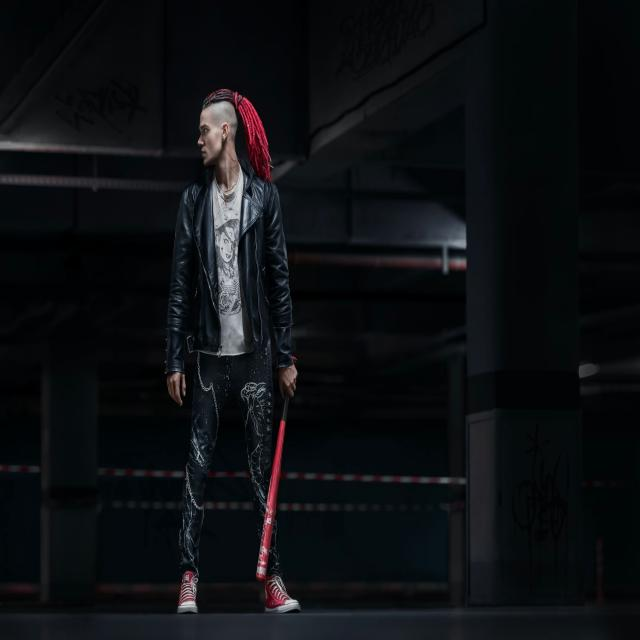adult: (166, 91, 296, 612)
